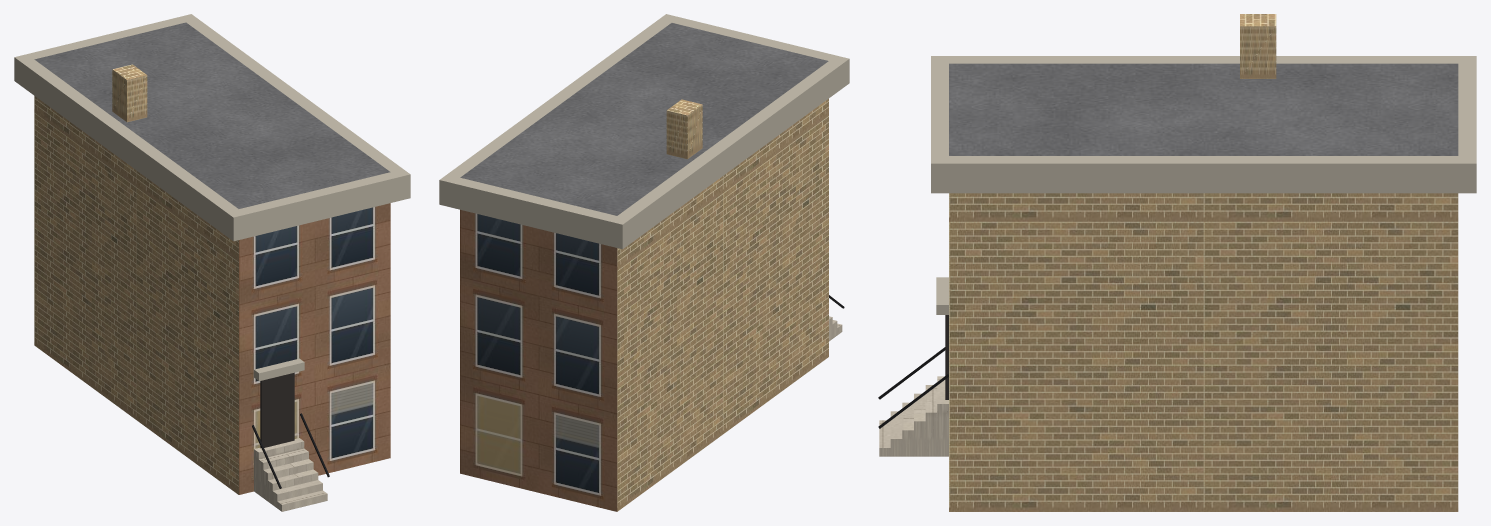
File: 004_sandstone_rowhouse.glb
3 renders of one model, left to right at view 1: azimuth 30°, elevation 25°; view 2: azimuth 150°, elevation 25°; view 3: azimuth 270°, elevation 25°, orthographic. The views are drawn at different scales.
Visible parts, largest first — view 1: 004_sandstone_rowhouse; view 2: 004_sandstone_rowhouse; view 3: 004_sandstone_rowhouse.
Part boxes in pixels (x1,y1,x2,y2): 004_sandstone_rowhouse: (14,14,410,511); 004_sandstone_rowhouse: (439,14,849,511); 004_sandstone_rowhouse: (878,14,1476,511).
Size of the model in its own units: 7 by 12.4 by 16.44.
7 materials, 4 textured.
